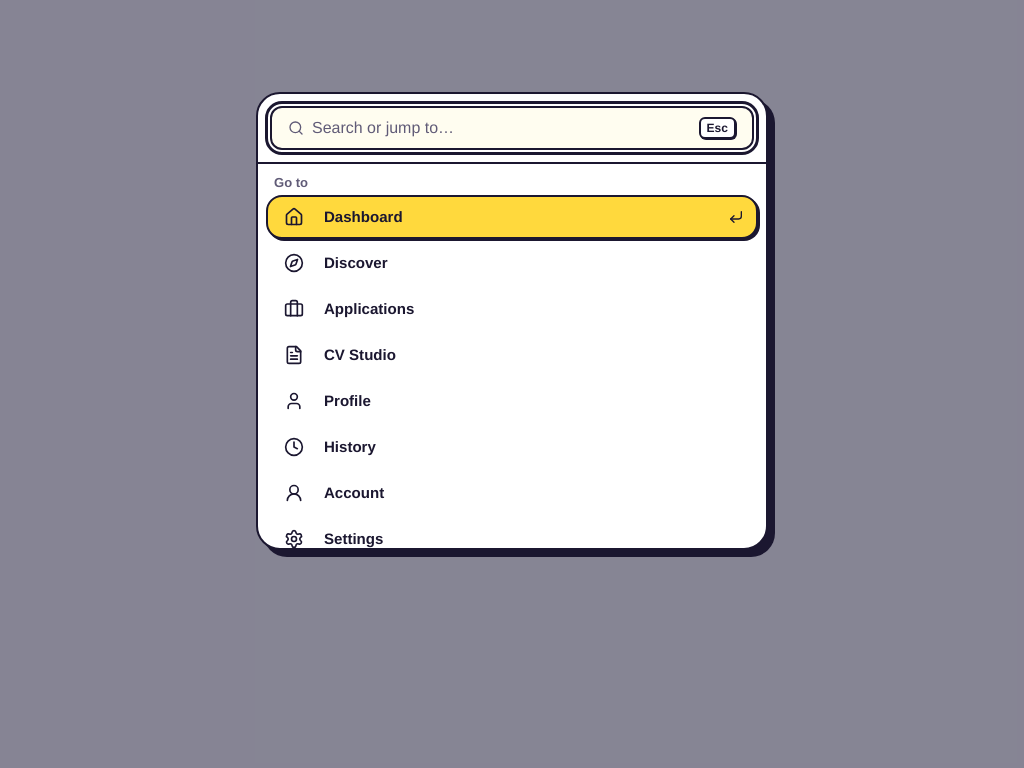
Scenario: CommandPalette › groups results under Go to, Tools and Applications headings
Step 1. Type "e" into the dropdown labelled "Search" → x=501, y=128, box [312,108,691,148]
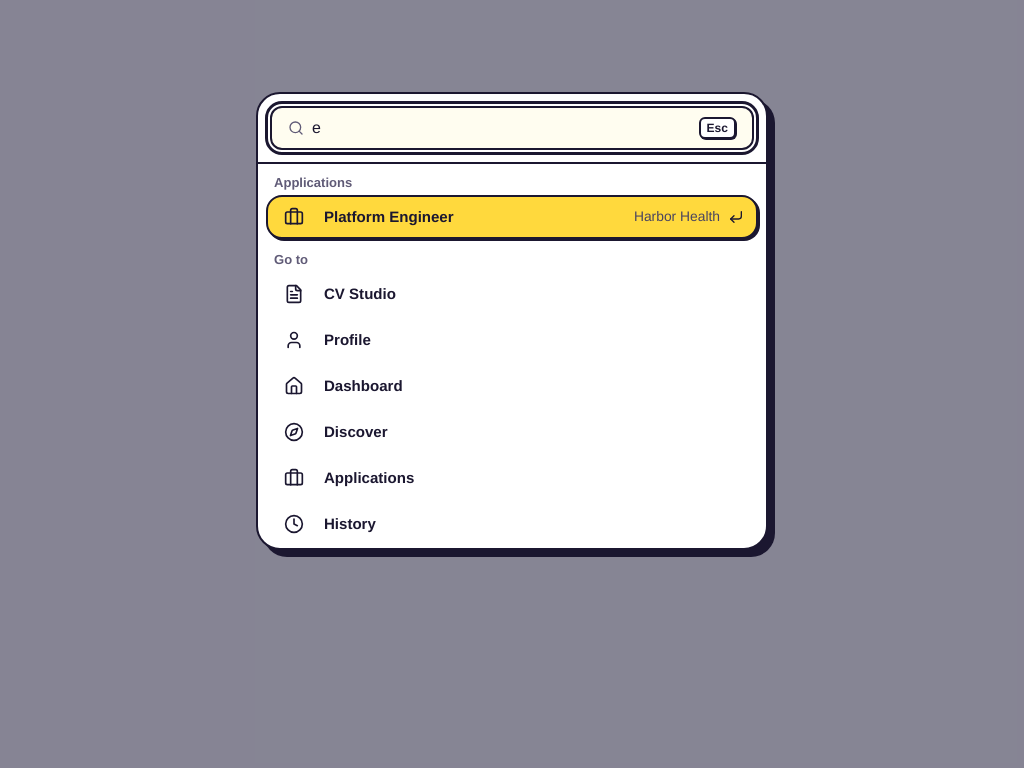
Check: the option "Platform Engineer Harbor Health" is shown, box [266,195,758,239]
